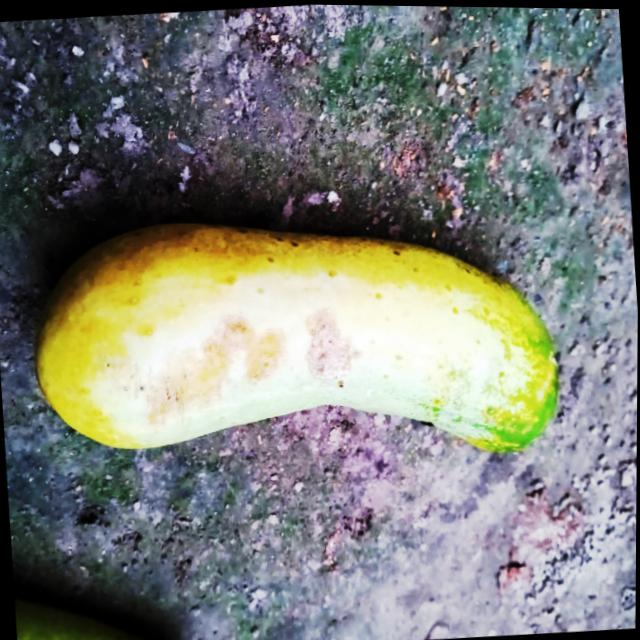Belly-Rot: (137, 305, 293, 434), (300, 301, 364, 397)
